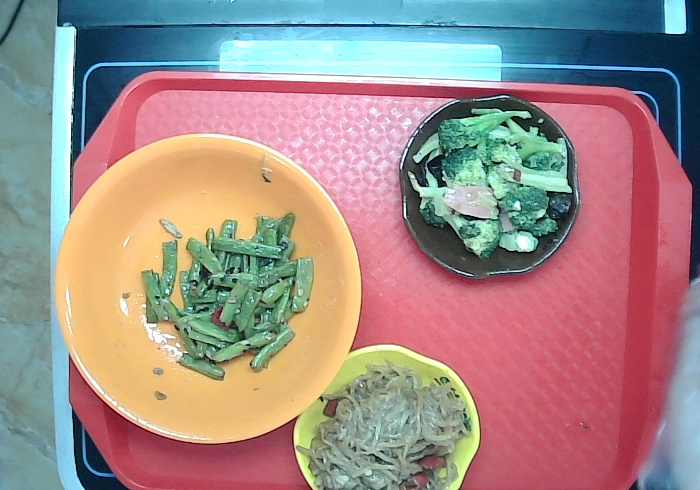YKMZ-Huang_Se_Ao_Bian_Wan: (290, 340, 484, 490)
YKMZ-Ju_Se_Tang_Wan: (52, 132, 365, 443)
YKMZ-Ka_Fei_Ao_Bian_Wan: (399, 96, 580, 281)
